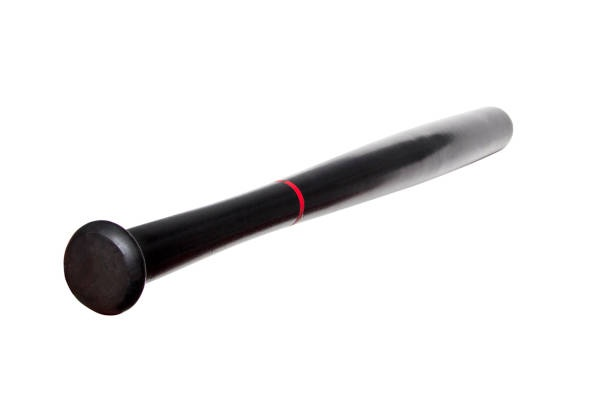bita: (62, 114, 505, 315)
